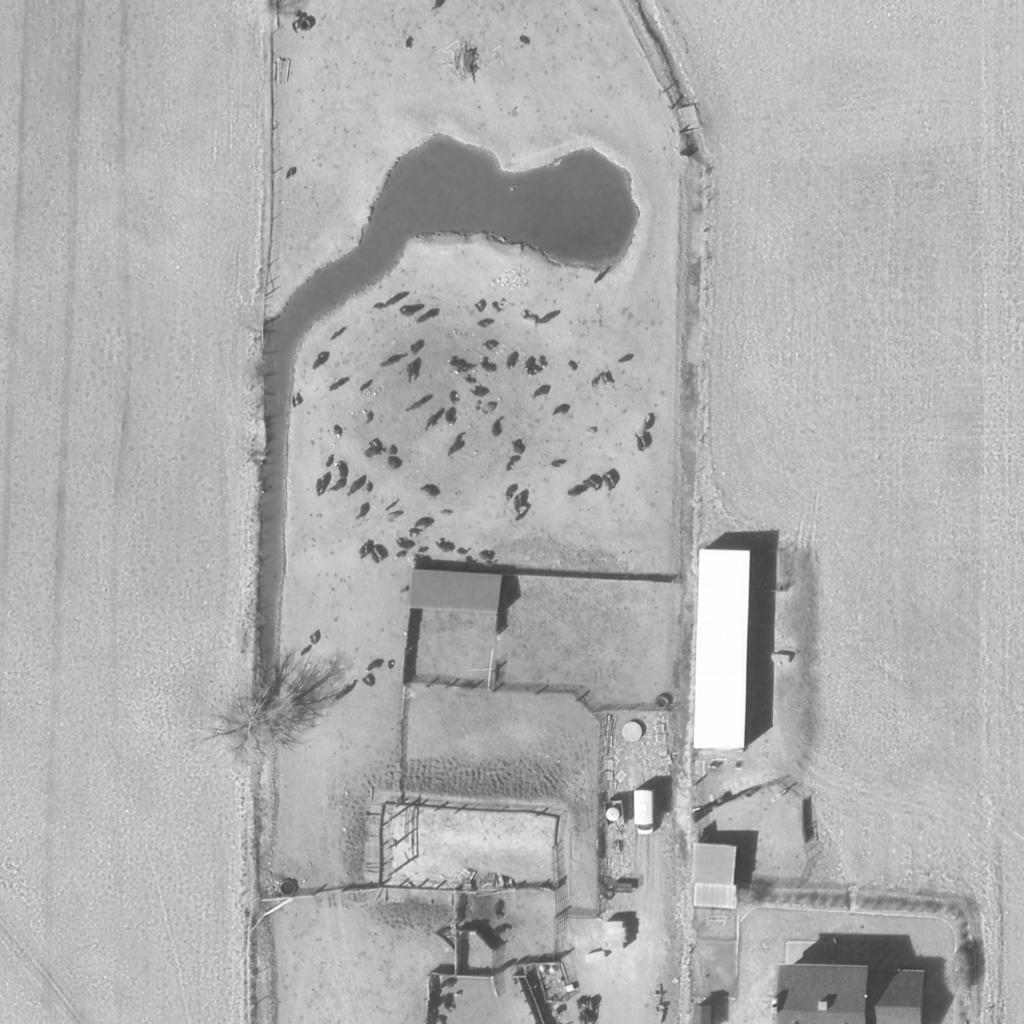vehicle: (634, 790, 654, 836)
